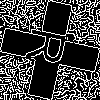R: (25, 25, 77, 70)
